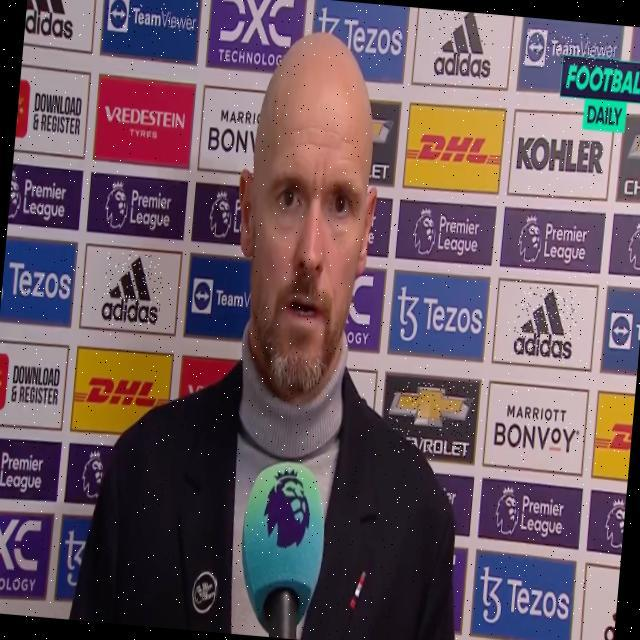Adidas: (511, 285, 579, 359), (100, 252, 164, 327), (432, 9, 496, 80), (24, 0, 77, 41)
Chevrolet: (386, 378, 476, 459)
Kohler: (516, 130, 607, 179)
TeamViewer: (524, 29, 620, 71), (104, 0, 198, 40)
